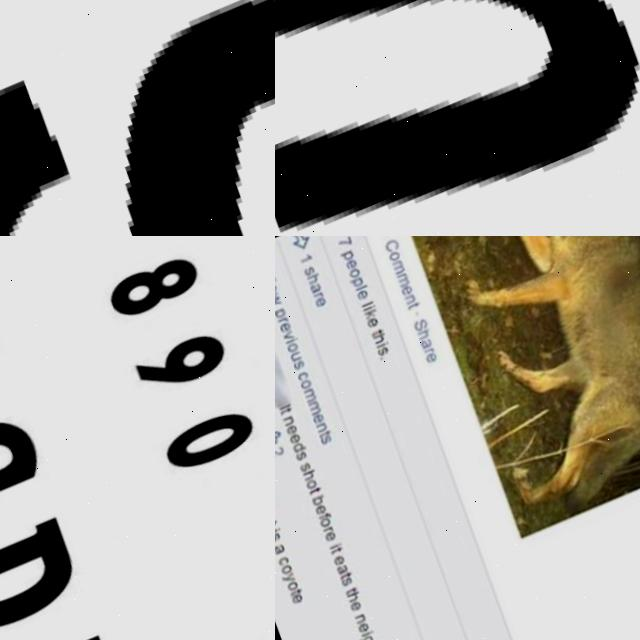0: (144, 397, 274, 490)
3: (337, 236, 355, 250)
7: (62, 236, 188, 255)
8: (90, 241, 218, 334)
9: (119, 320, 245, 409)
A: (422, 337, 436, 351), (279, 544, 293, 557), (312, 282, 325, 295), (343, 564, 355, 575), (275, 512, 280, 523)
B: (317, 494, 333, 508)
C: (385, 238, 402, 252), (284, 556, 297, 567), (301, 371, 313, 382)
D: (297, 441, 313, 454)
E: (402, 284, 416, 297), (427, 352, 441, 365), (358, 289, 372, 302), (368, 317, 382, 330), (317, 295, 331, 308), (316, 412, 330, 425), (293, 433, 307, 446), (330, 530, 344, 543), (339, 554, 353, 567), (282, 321, 295, 334), (320, 505, 333, 516), (357, 601, 370, 612), (365, 622, 378, 633), (298, 593, 311, 604), (347, 259, 359, 270), (291, 424, 303, 435), (275, 283, 280, 296)
F: (324, 512, 339, 521)
G: (367, 634, 382, 640)
H: (275, 0, 640, 236), (420, 327, 436, 341), (354, 591, 370, 604), (308, 273, 323, 286), (376, 332, 391, 344), (308, 469, 323, 481), (275, 501, 279, 514)
I: (379, 341, 393, 349), (370, 629, 383, 637), (283, 402, 296, 410), (288, 337, 301, 344), (336, 543, 349, 550), (366, 305, 378, 312), (275, 528, 287, 535), (275, 278, 279, 285)
K: (367, 309, 381, 320)
L: (357, 284, 371, 292), (364, 300, 376, 308)
M: (398, 272, 414, 289), (311, 399, 327, 416), (393, 259, 408, 275), (307, 387, 322, 403)
N: (406, 293, 419, 304), (320, 422, 333, 433), (287, 416, 300, 427), (362, 614, 375, 625)
O: (303, 378, 317, 391), (286, 563, 300, 576), (389, 250, 402, 263), (350, 267, 363, 280), (325, 516, 338, 528), (290, 342, 303, 353), (311, 478, 324, 489), (294, 581, 306, 592)
P: (340, 250, 356, 263), (351, 277, 367, 290), (275, 308, 289, 321)
R: (315, 292, 327, 300), (280, 317, 292, 325), (427, 348, 438, 356), (330, 527, 339, 534)
S: (0, 0, 275, 236), (415, 318, 433, 333), (378, 346, 393, 358), (324, 434, 337, 446), (296, 359, 309, 370), (301, 451, 314, 462), (304, 462, 317, 473), (348, 577, 361, 588), (275, 532, 288, 543), (305, 266, 317, 277)
T: (314, 485, 329, 496), (352, 585, 366, 595), (337, 546, 352, 555), (296, 588, 311, 597), (409, 301, 423, 310), (322, 429, 336, 438), (284, 407, 297, 416), (347, 571, 360, 580), (375, 329, 386, 337), (275, 519, 284, 528), (275, 493, 277, 506)
U: (293, 352, 305, 363)
V: (285, 329, 298, 342), (275, 267, 279, 284)
W: (275, 290, 285, 308)
Y: (288, 572, 303, 585)
